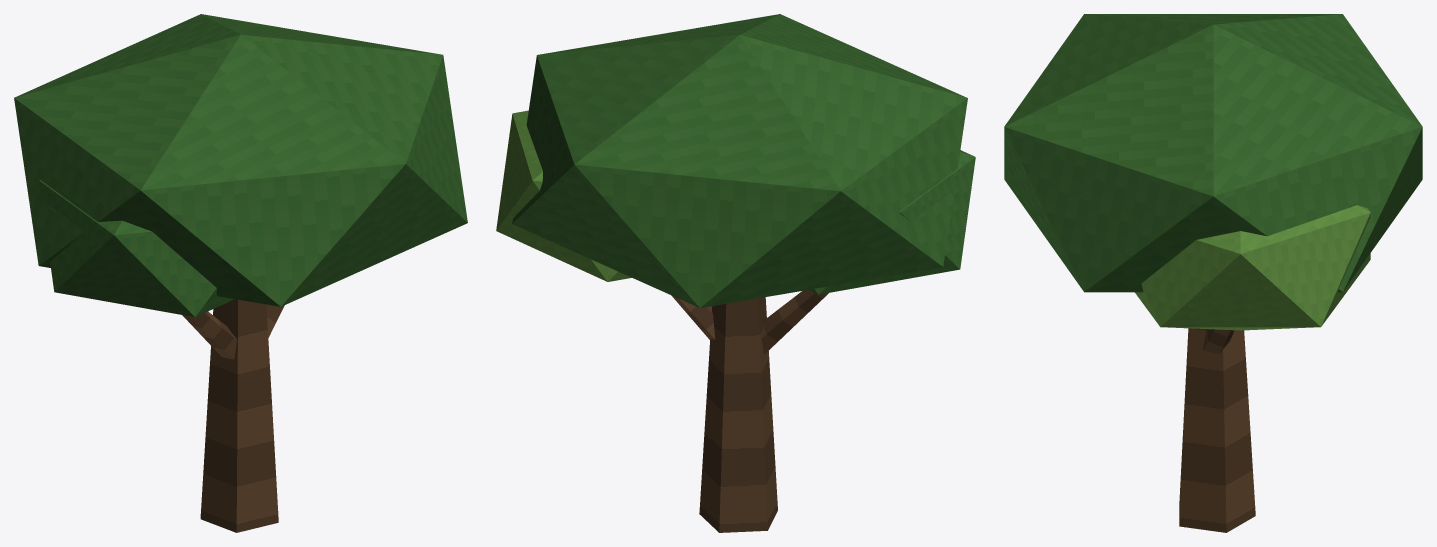
Rendered from tree-oak-lod1.glb.
3 views of the same model, side by side, from view 1: azimuth 30°, elevation 25°; view 2: azimuth 150°, elevation 25°; view 3: azimuth 270°, elevation 25° (orthographic). The views are drawn at different scales.
Visible parts, largest first — view 1: tree-oak-lod1; view 2: tree-oak-lod1; view 3: tree-oak-lod1.
Boxes of the visible parts, x1=… form: tree-oak-lod1: x1=14, y1=14, x2=467, y2=532; tree-oak-lod1: x1=496, y1=14, x2=975, y2=532; tree-oak-lod1: x1=1004, y1=14, x2=1422, y2=532.
Size of the model in its own units: 3.25 by 3.59 by 2.77.
Materials: 1 (1 with a texture image).
